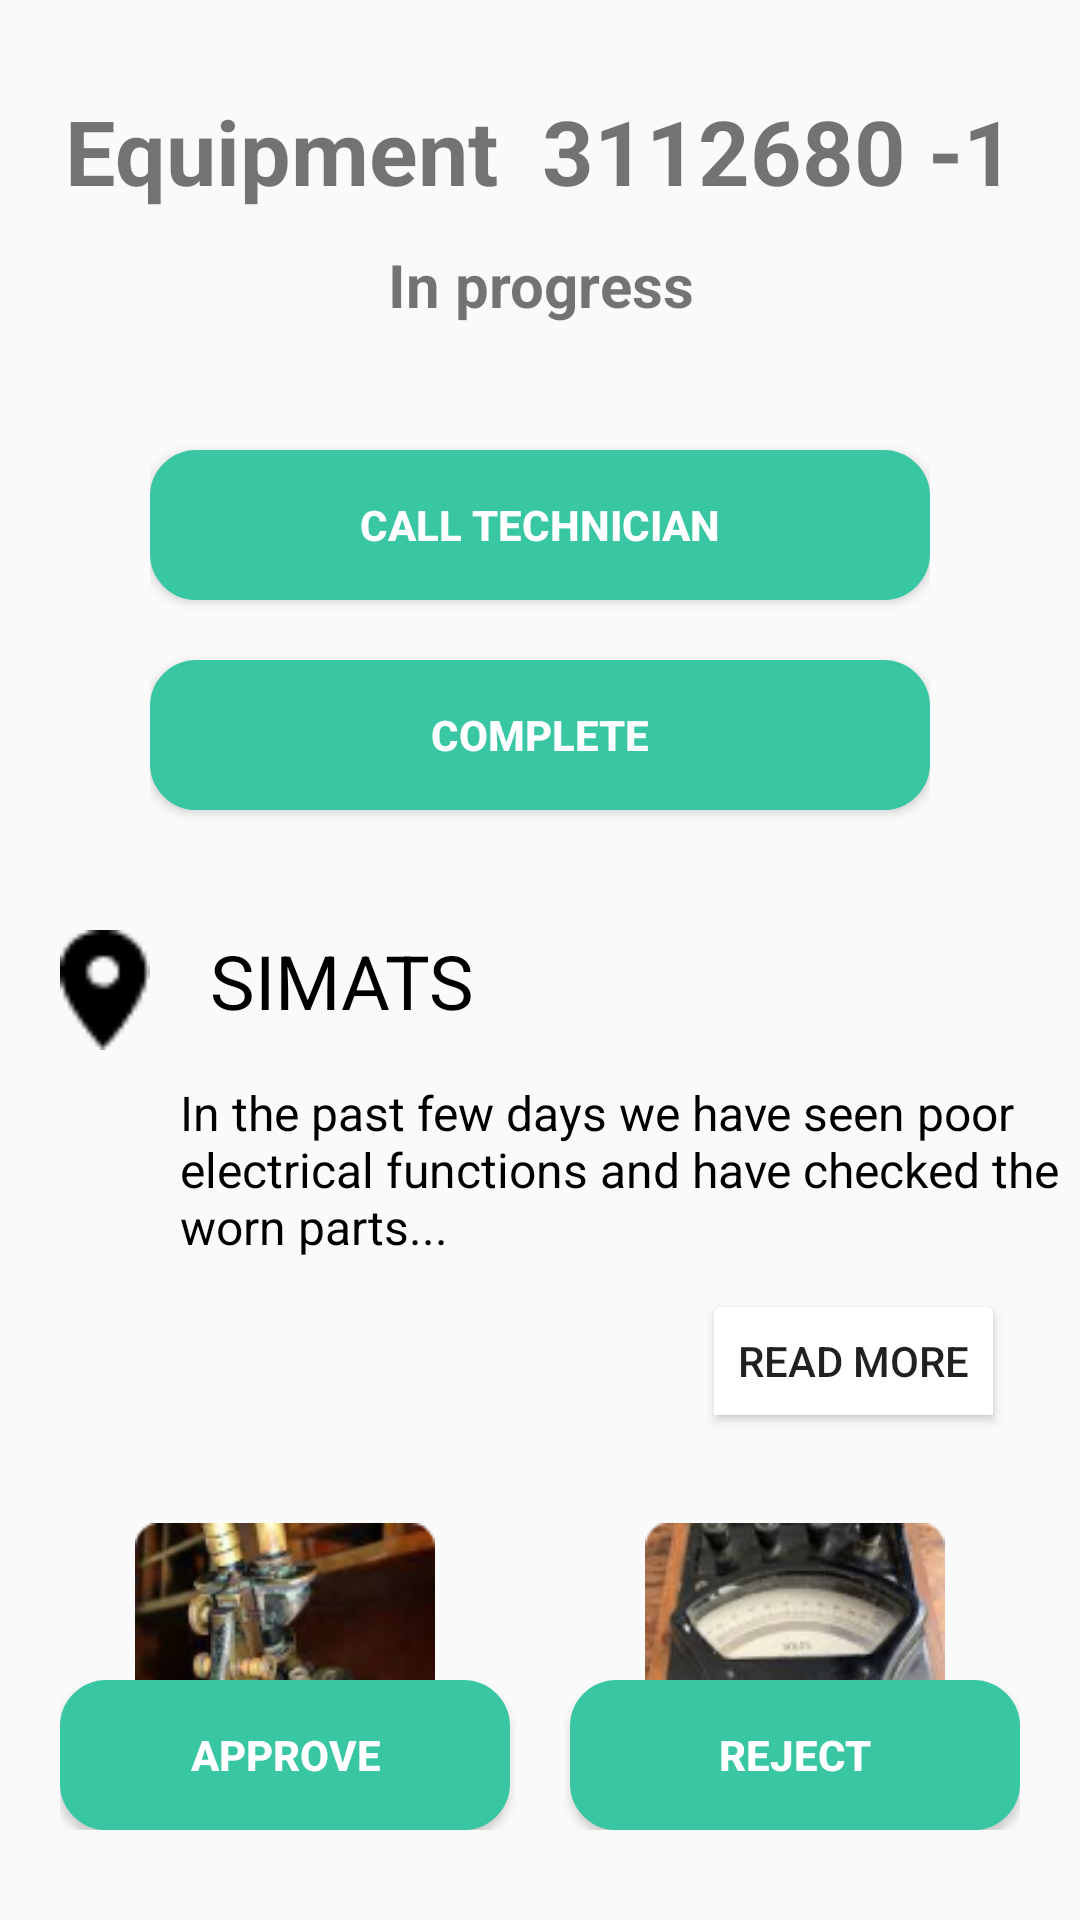

Icon bounding boxes for this 1080×1920 phone screenshot, format bbox=(x1, y1, x2, y2):
map: bbox=(60, 930, 150, 1050)
